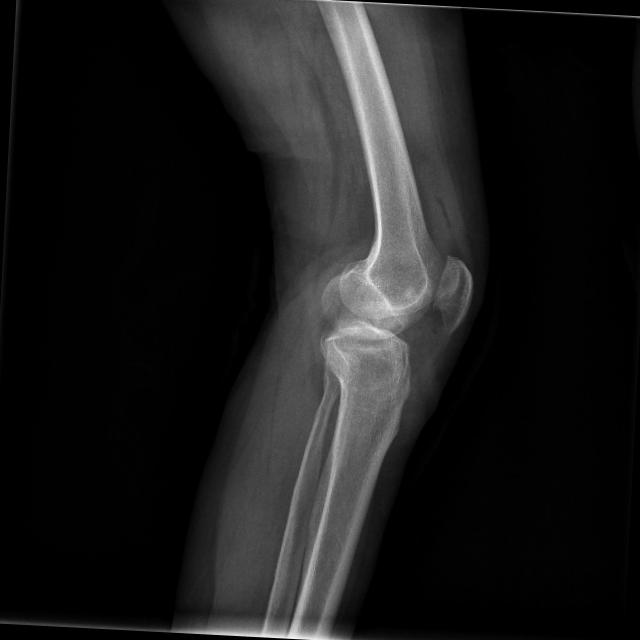Knee: (312, 239, 474, 395)
